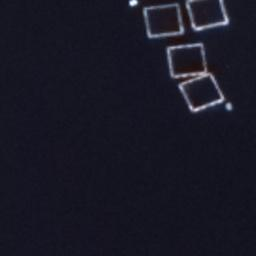square_solid: (176, 70, 229, 115), (165, 40, 210, 81), (141, 2, 186, 39), (184, 1, 232, 32)
